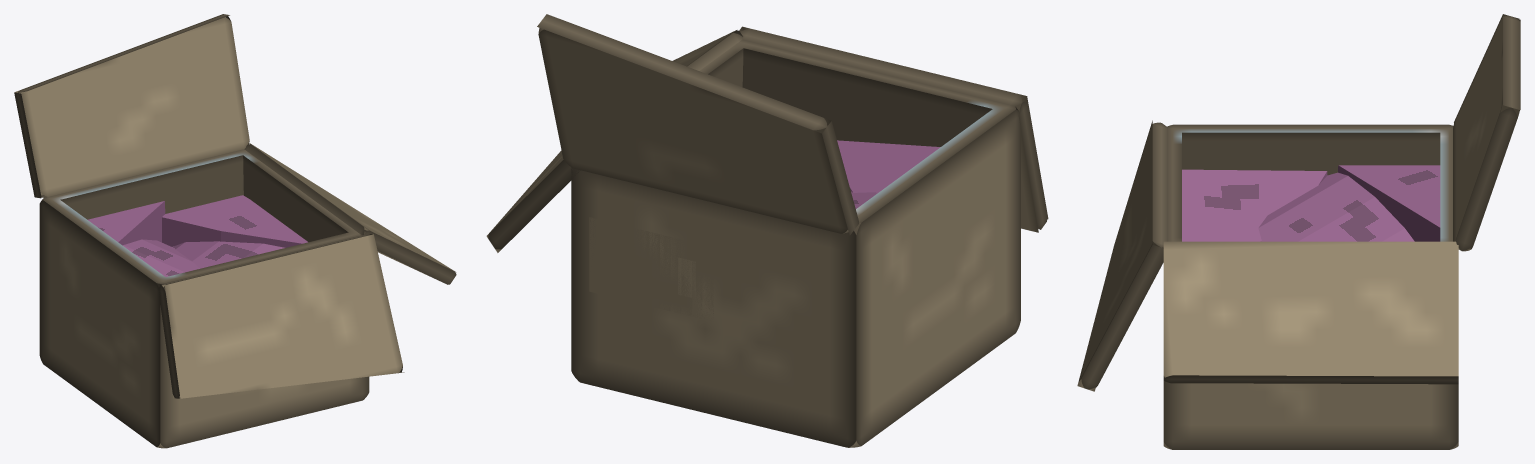
The model's file is catbox.fbx.
3 views of the same model, side by side, from view 1: azimuth 30°, elevation 25°; view 2: azimuth 150°, elevation 25°; view 3: azimuth 270°, elevation 25° (orthographic). The views are drawn at different scales.
Parts seen in each view (by area): view 1: box, panel1, panel3, Cushions, panel2, cylinder, cylinder_2; view 2: box, panel3, Cushions, panel1, panel2; view 3: panel2, box, Cushions, panel3, panel1, cylinder_2.
Part boxes in pixels (box(x1,y1,x2,y2)): box: box(39, 149, 369, 448); panel1: box(159, 234, 404, 398); panel3: box(14, 14, 249, 198); Cushions: box(87, 195, 307, 247); panel2: box(244, 143, 456, 284); cylinder: box(172, 241, 284, 268); cylinder_2: box(123, 239, 199, 276); box: box(571, 39, 1020, 447); panel3: box(537, 14, 858, 235); Cushions: box(589, 140, 940, 320); panel1: box(739, 26, 1048, 232); panel2: box(486, 30, 742, 252); panel2: box(1163, 241, 1458, 384); box: box(1163, 124, 1458, 449); Cushions: box(1182, 165, 1440, 241); panel3: box(1453, 14, 1520, 251); panel1: box(1077, 120, 1166, 391); cylinder_2: box(1258, 172, 1414, 241).
Size of the model in its own units: 142 by 129 by 150.
Materials: 2 (2 with a texture image).
